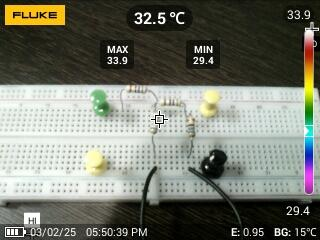resistor: (157, 96, 184, 108), (185, 114, 197, 140), (149, 112, 162, 136), (124, 83, 151, 94)
